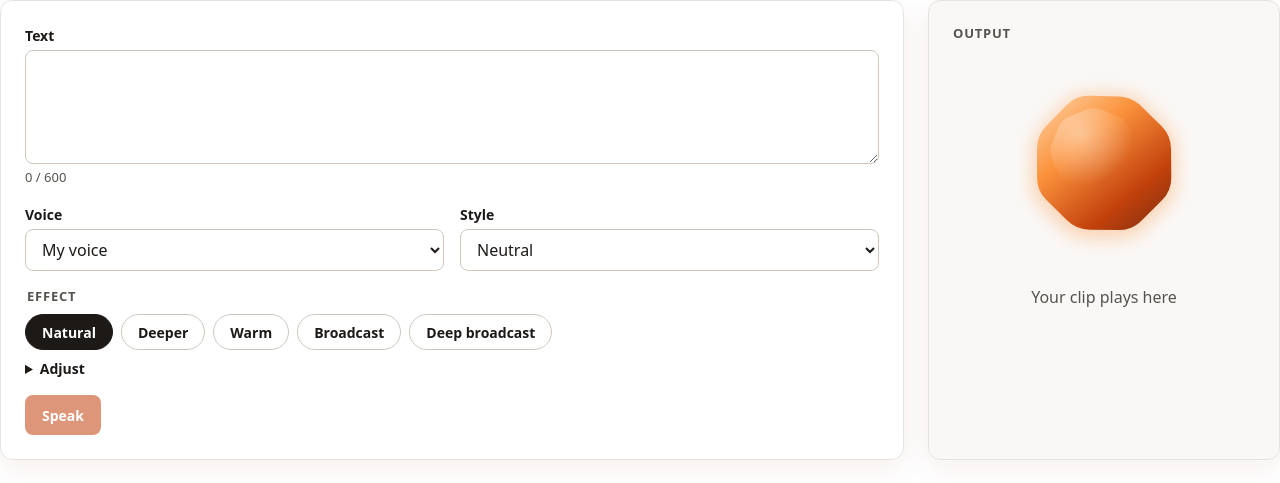
Test case: type to speech › voices a line in a recorded voice with an effect, then has it ready
Later steps or results of the test are not shown.
Expected: the picture named "Voice, idle" is shown, [994, 53, 1214, 273]
Type "Hello there." into the text box labelled "Text". click: (452, 107)
box: [25, 50, 879, 164]
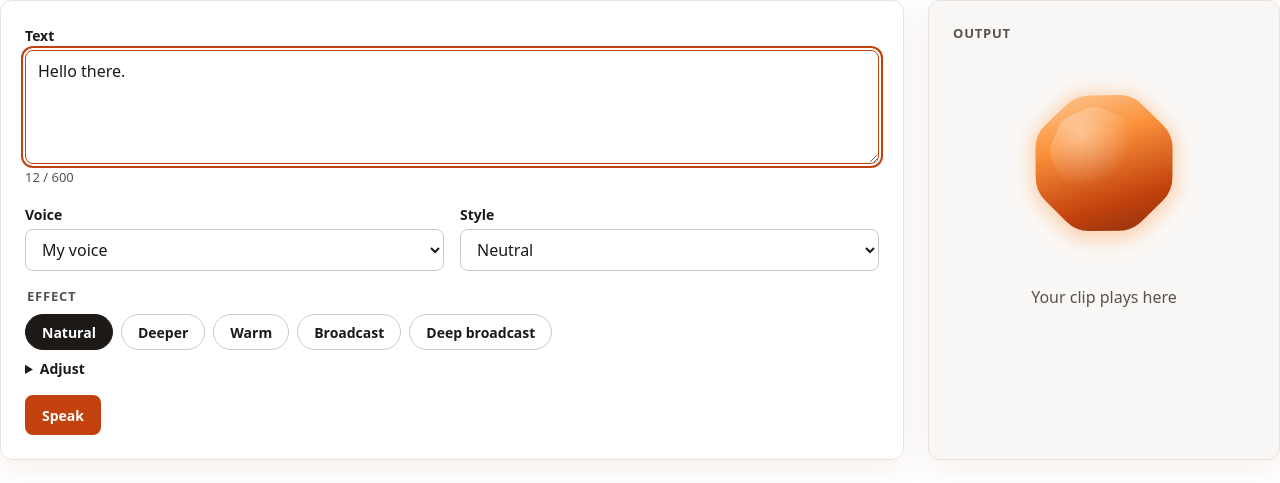
Select "Warm" in the dropdown labelled "Style". click: (670, 250)
box: [460, 228, 879, 270]
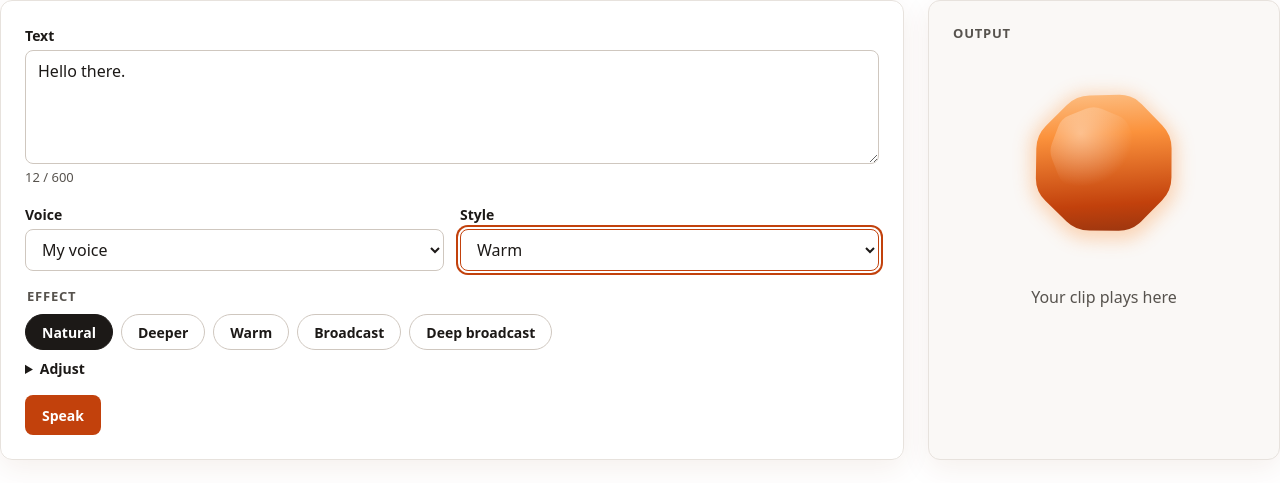
Click the radio button labelled "Deeper". click: (163, 332)
box: [121, 314, 205, 350]
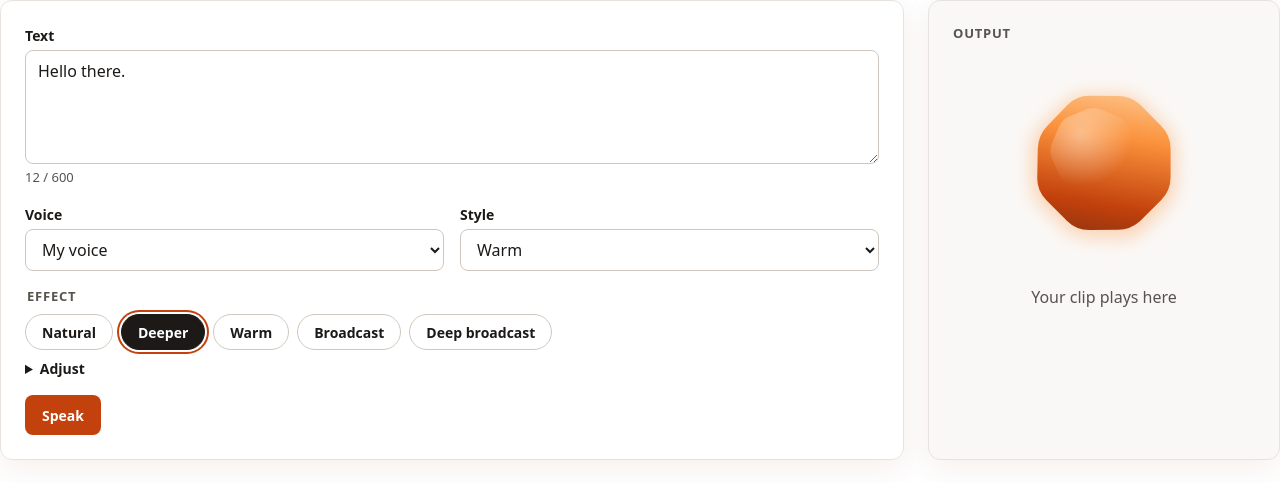
Click the button "Speak". click: (63, 415)
box: [25, 395, 101, 435]
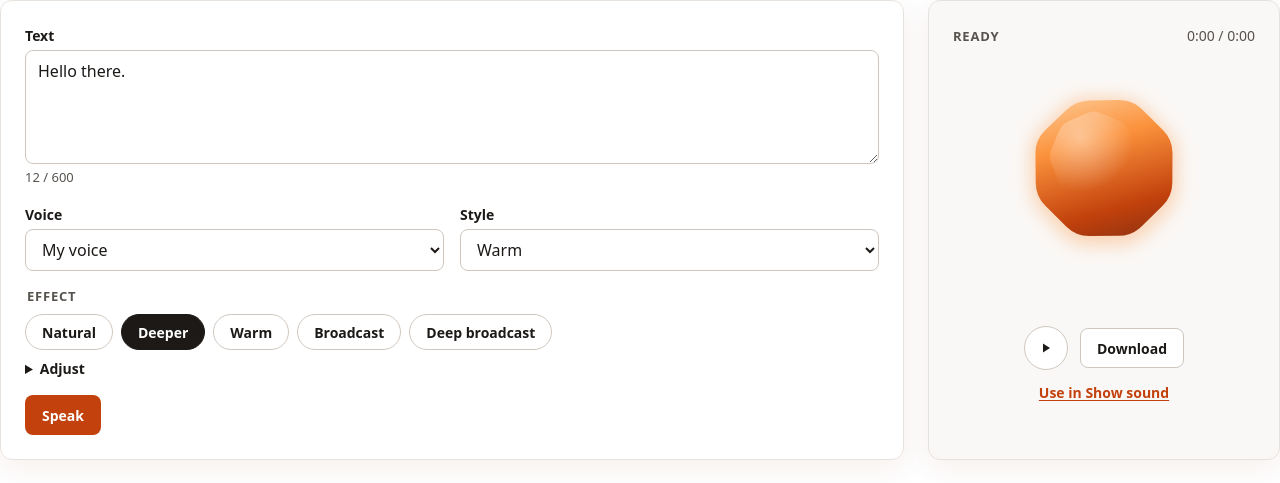
Expected: the link "Use in Show sound" is shown, [1039, 382, 1169, 403]
